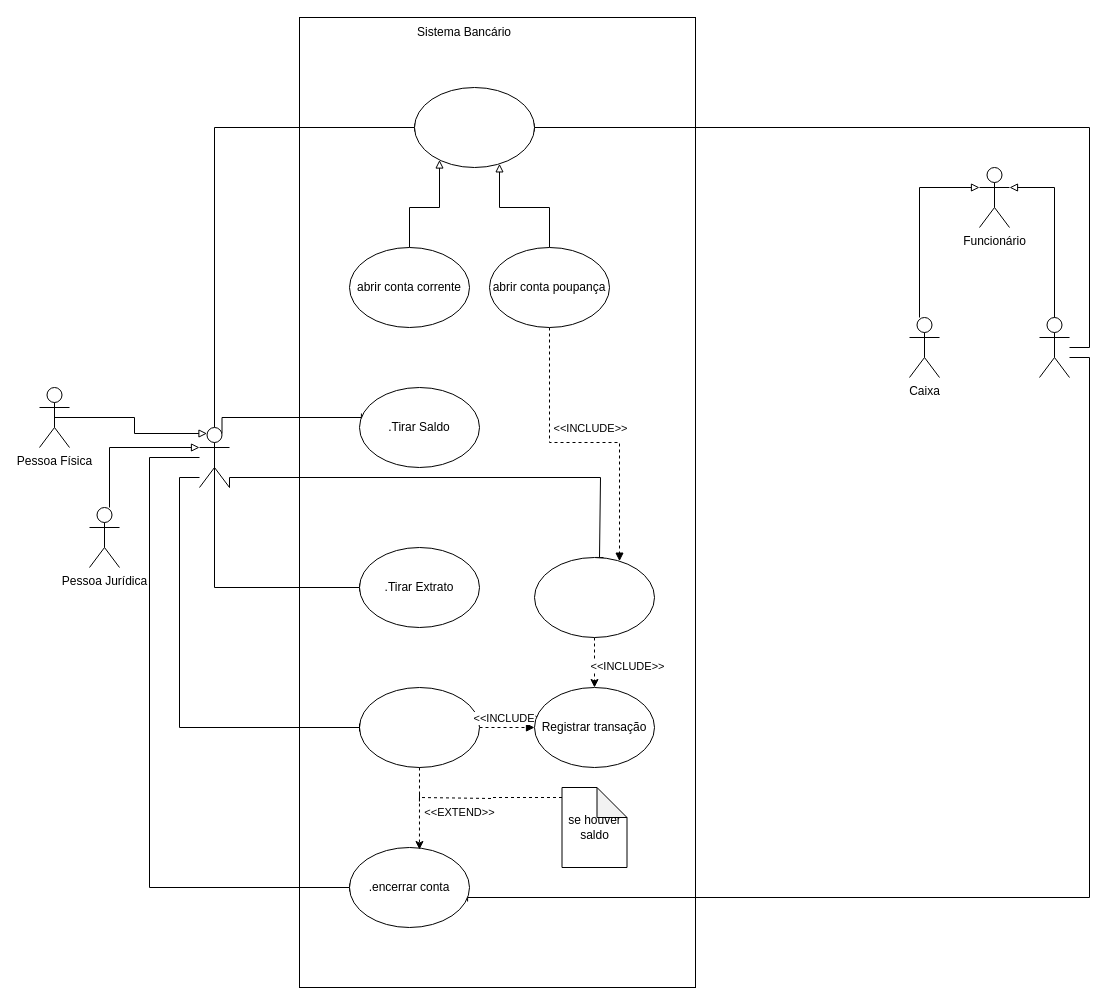
This 1115x1005 diagram has some shape labels left out. Here are the shapes that lost their labels. From the top down, the centre of each, then its label:
the point at 474,127: .Abrir conta
the point at 1054,347: Gerente
the point at 214,457: Cliente
the point at 594,597: Fazer depósito
the point at 419,727: Realizar Saques
